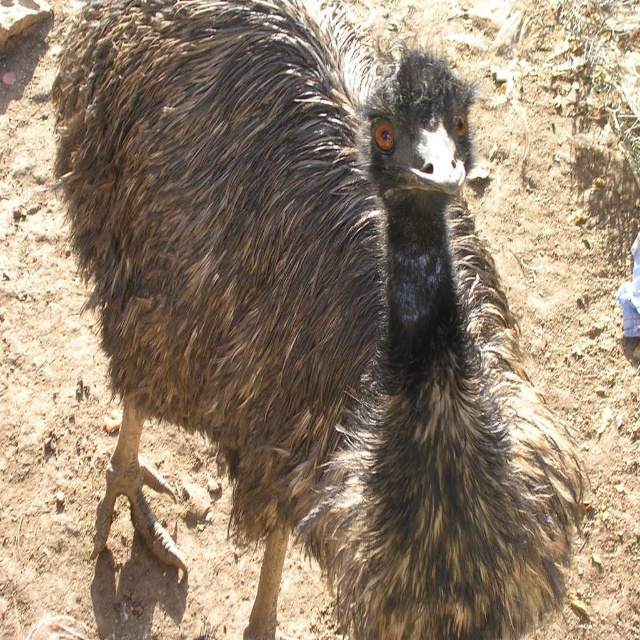Ostrich: (51, 0, 591, 640)
